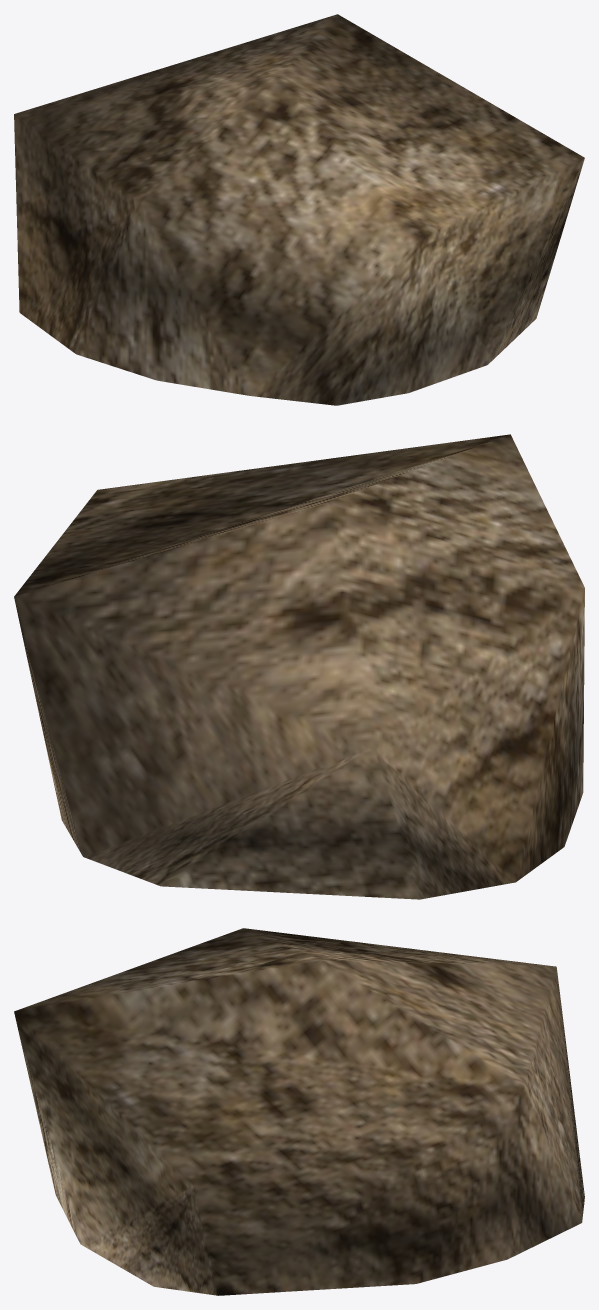
File: stone4_tex1.fbx
3 renders of one model, top to bottom at view 1: azimuth 30°, elevation 25°; view 2: azimuth 150°, elevation 25°; view 3: azimuth 270°, elevation 25°, orthographic. The views are drawn at different scales.
Visible parts, largest first — view 1: stone4_tex1; view 2: stone4_tex1; view 3: stone4_tex1.
Part boxes in pixels (<box>): stone4_tex1: <box>14,14,584,405</box>; stone4_tex1: <box>14,434,584,899</box>; stone4_tex1: <box>14,928,584,1295</box>.
Size of the model in its own units: 0.4115 by 0.1986 by 0.4287.
1 material, 1 textured.
